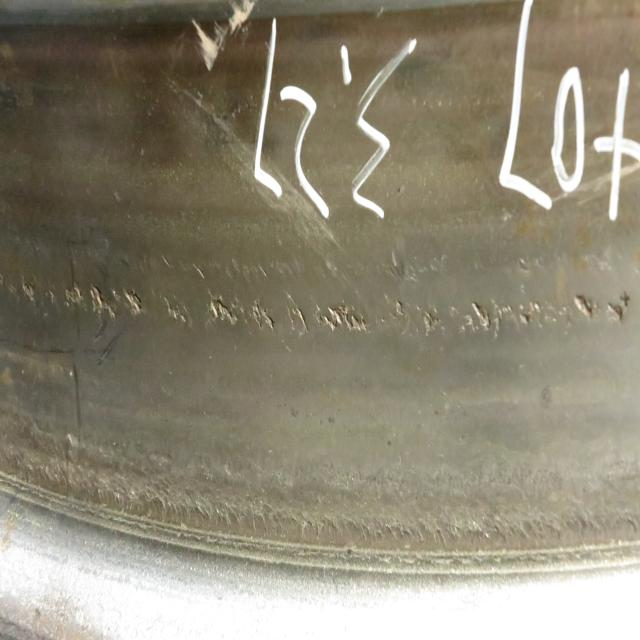Peeling: (473, 299, 515, 330), (317, 308, 367, 332), (92, 283, 115, 320), (209, 291, 234, 323), (609, 293, 632, 321), (166, 295, 188, 323), (253, 304, 274, 331), (423, 312, 444, 336), (64, 285, 86, 306), (521, 301, 543, 322), (575, 295, 593, 318), (125, 291, 142, 315), (297, 310, 309, 339), (22, 276, 35, 302), (398, 299, 405, 318)
